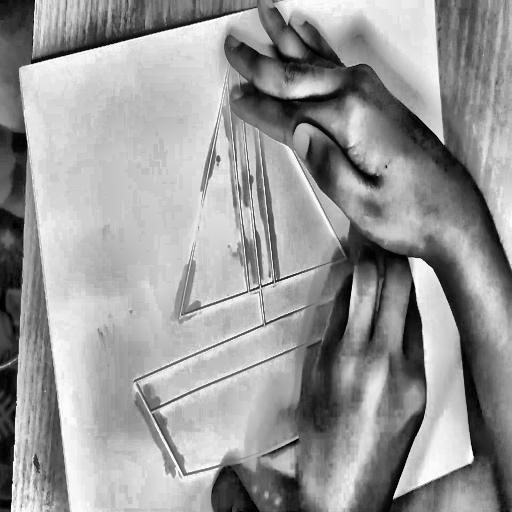boat: (87, 0, 436, 499)
bottom_right: (468, 451, 478, 468)
top_left: (15, 61, 24, 78)
